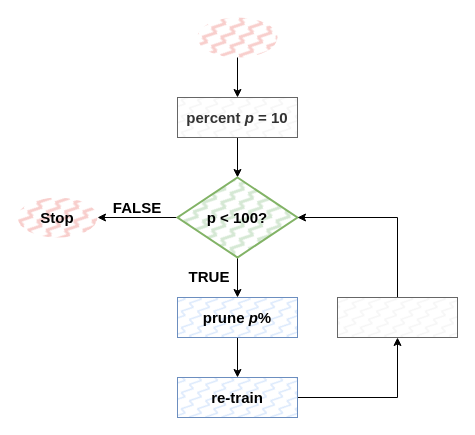
Image size: 475x435. Some labels were removed from this diagram. Here are the shapes that lost their labels. From the top down, the box of each, then its label:
(197, 17, 277, 57): Start
(336, 296, 458, 338): p = p + 10
